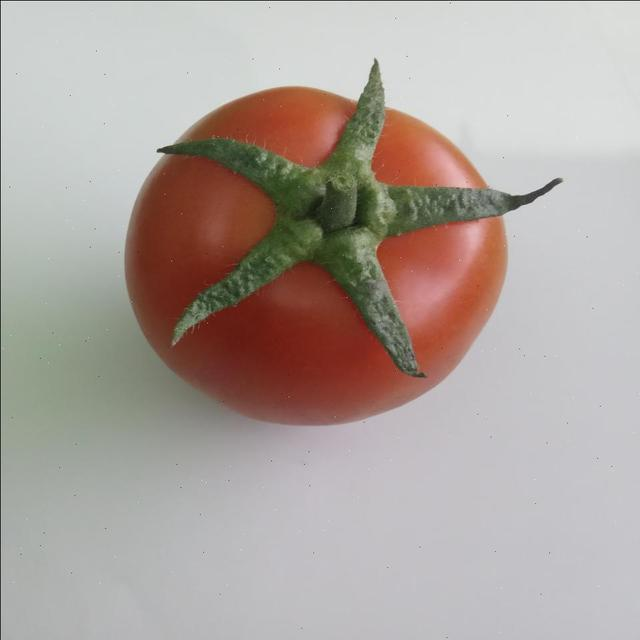Healthy Fruit: (79, 38, 374, 286)
